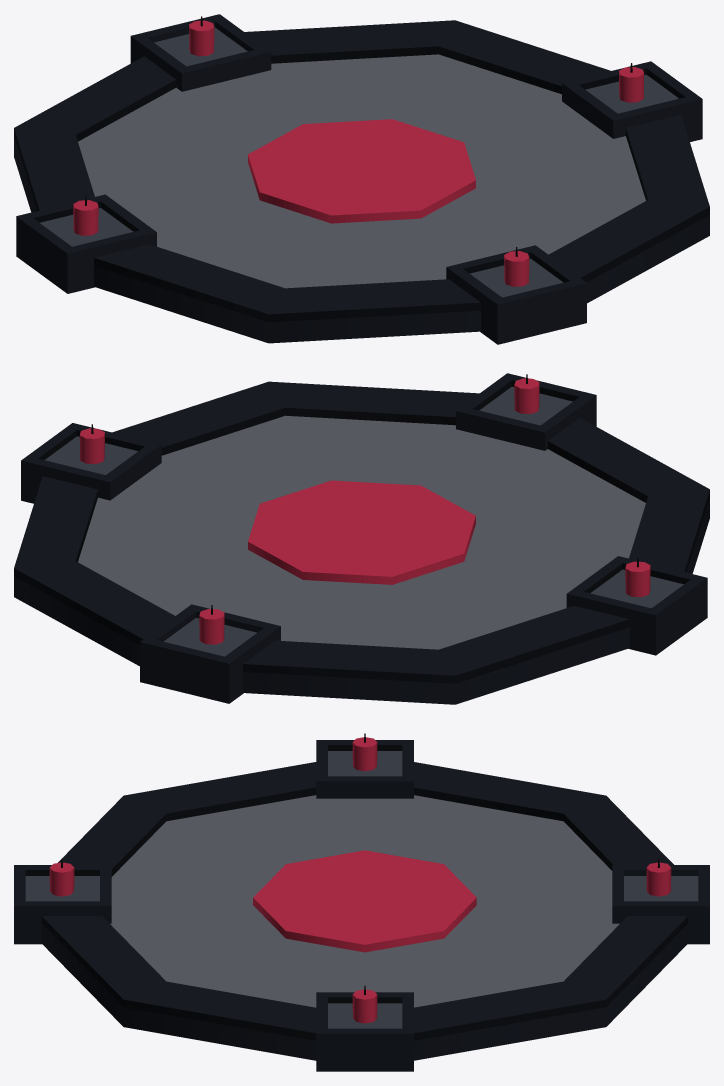
Rendered from cercle .fbx.
3 renders of one model, top to bottom at view 1: azimuth 30°, elevation 25°; view 2: azimuth 150°, elevation 25°; view 3: azimuth 270°, elevation 25°, orthographic. The views are drawn at different scales.
Parts seen in each view (by area): view 1: Cercle; view 2: Cercle; view 3: Cercle.
Part boxes in pixels (box(x1,y1,x2,y2)): Cercle: box(14, 14, 709, 344); Cercle: box(14, 373, 709, 704); Cercle: box(14, 733, 709, 1071).
Bounding box in the file's own units: 1156 × 119 × 1158.
